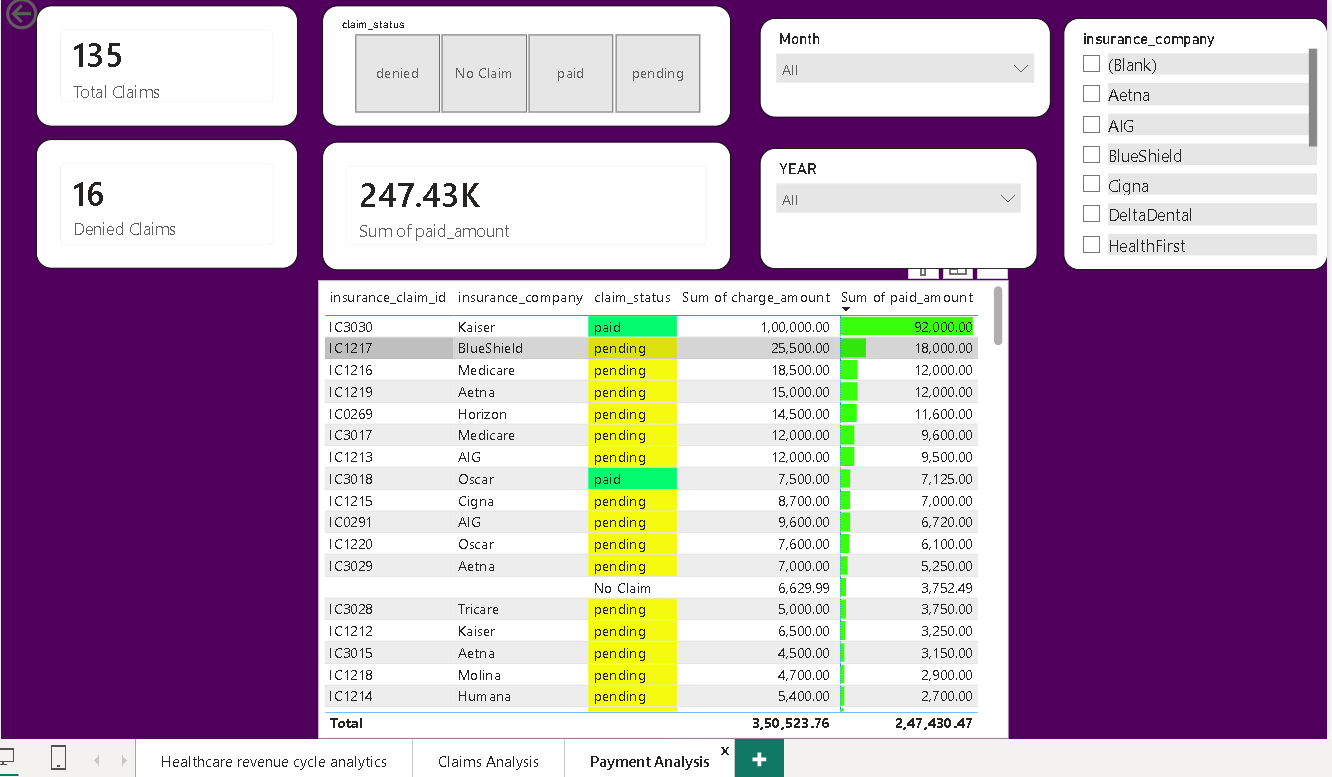

The dashboard page shown, as its layout file describes it:
{"tool":"powerbi","page":{"name":"Payment Analysis","canvas":[1280,720],"ordinal":2},"visuals":[{"type":"tableEx","fields":{"Values":["Data.insurance_claim_id","Data.insurance_company","Data.claim_status","Sum(Data.charge_amount)","Sum(Data.paid_amount)"]},"box":[293.7,278.6,665.5,441.9],"z":0},{"type":"actionButton","box":[0,0,100,40],"z":1000},{"type":"slicer","fields":{"Values":["Data.insurance_company"]},"box":[38.4,0,321.1,111.1],"z":2000},{"type":"slicer","fields":{"Values":["Data.claim_status"]},"box":[359.5,2.7,315.6,113.9],"z":3000},{"type":"slicer","fields":{"Values":["Data.Month"]},"box":[679.2,0,279.9,115.3],"z":4000},{"type":"slicer","fields":{"Values":["Data.YEAR"]},"box":[979.8,8.2,279.9,108.4],"z":5000},{"type":"cardVisual","fields":{"Data":["Data.Total Claims"]},"box":[38.4,129,321.1,149.6],"z":6000},{"type":"cardVisual","fields":{"Data":["Sum(Data.paid_amount)"]},"box":[373.2,129,301.9,149.6],"z":7000},{"type":"cardVisual","fields":{"Data":["Data.Denied Claims"]},"box":[699.8,129,279.9,140],"z":8000}]}

Visuals, with their boxes on the page's 1280x720 design canvas (x1, y1, x2, y2). These are canvas units, not pixel positions in the 1332x777 screenshot, which may show the page scaled, cropped or inside an application window:
tableEx - Data.insurance_claim_id x Data.insurance_company: (294,279,959,720)
actionButton: (0,0,100,40)
slicer - Data.insurance_company: (38,0,360,111)
slicer - Data.claim_status: (360,3,675,117)
slicer - Data.Month: (679,0,959,115)
slicer - Data.YEAR: (980,8,1260,117)
cardVisual - Data.Total Claims: (38,129,360,279)
cardVisual - Sum(Data.paid_amount): (373,129,675,279)
cardVisual - Data.Denied Claims: (700,129,980,269)
